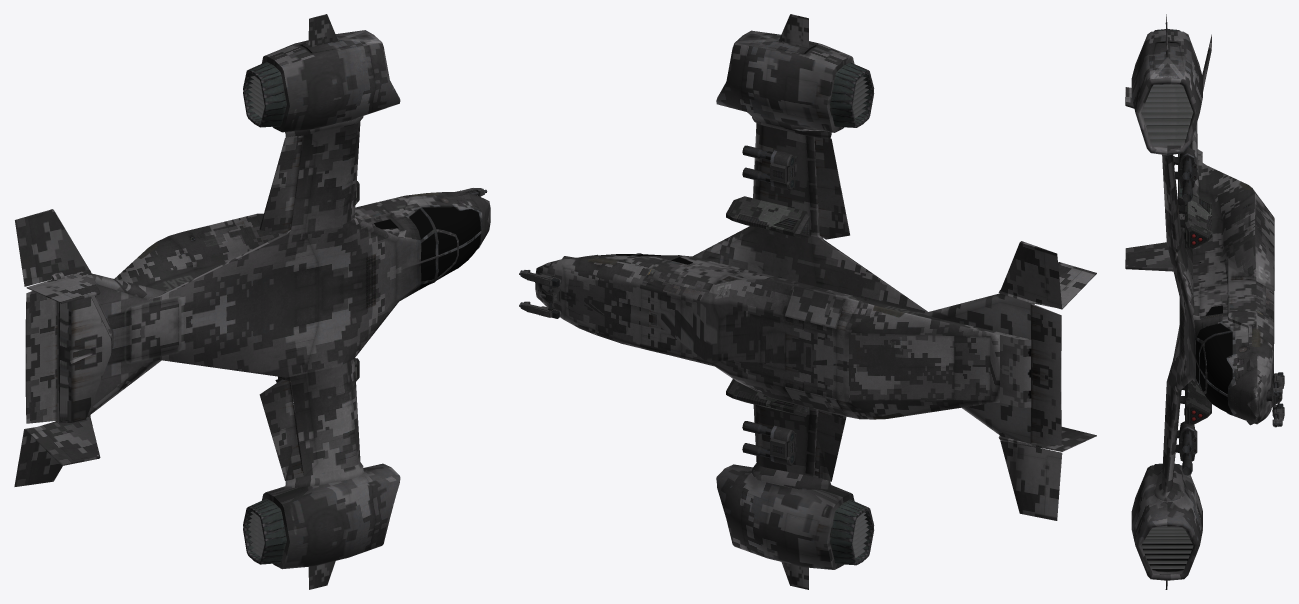
The model's file is veh_t6_air_v78_vtol_killstreak_alt_LOD1.obj.
The picture shows the model from 3 angles, left to right: view 1: azimuth 30°, elevation 25°; view 2: azimuth 150°, elevation 25°; view 3: azimuth 270°, elevation 25°; orthographic projection.
Parts seen in each view (by area): view 1: mtl_veh_t6_v78_vtol_enemy, mtl_veh_t6_air_fa38_glass_opaque, mtl_veh_t6_v78_vtol_interior; view 2: mtl_veh_t6_v78_vtol_enemy, mtl_veh_t6_v78_vtol_guns_enemy, mtl_veh_t6_v78_vtol_interior; view 3: mtl_veh_t6_v78_vtol_enemy, mtl_veh_t6_v78_vtol_guns_enemy, mtl_veh_t6_v78_vtol_interior, mtl_veh_t6_air_fa38_glass_opaque.
Boxes of the visible parts, box(x1,y1,x2,y2) form: mtl_veh_t6_v78_vtol_enemy: box(14, 14, 490, 589); mtl_veh_t6_air_fa38_glass_opaque: box(374, 207, 480, 289); mtl_veh_t6_v78_vtol_interior: box(248, 76, 457, 557); mtl_veh_t6_v78_vtol_enemy: box(535, 14, 1096, 589); mtl_veh_t6_v78_vtol_guns_enemy: box(519, 145, 809, 465); mtl_veh_t6_v78_vtol_interior: box(645, 76, 869, 558); mtl_veh_t6_v78_vtol_enemy: box(1125, 14, 1274, 589); mtl_veh_t6_v78_vtol_guns_enemy: box(1173, 147, 1284, 475); mtl_veh_t6_v78_vtol_interior: box(1141, 84, 1265, 568); mtl_veh_t6_air_fa38_glass_opaque: box(1196, 305, 1232, 414).
Bounding box in the file's own units: 1954 × 2118 × 539.
